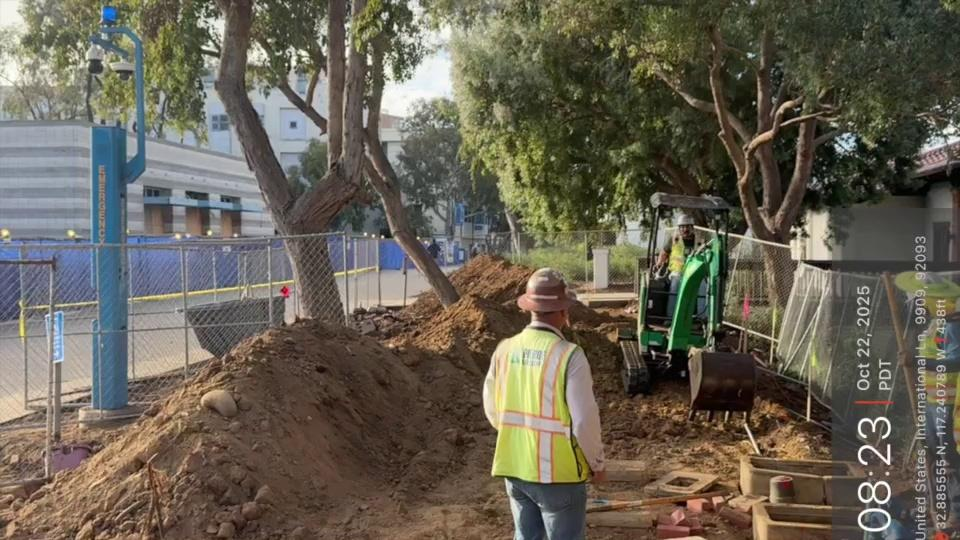Exacavator: (615, 190, 756, 417)
